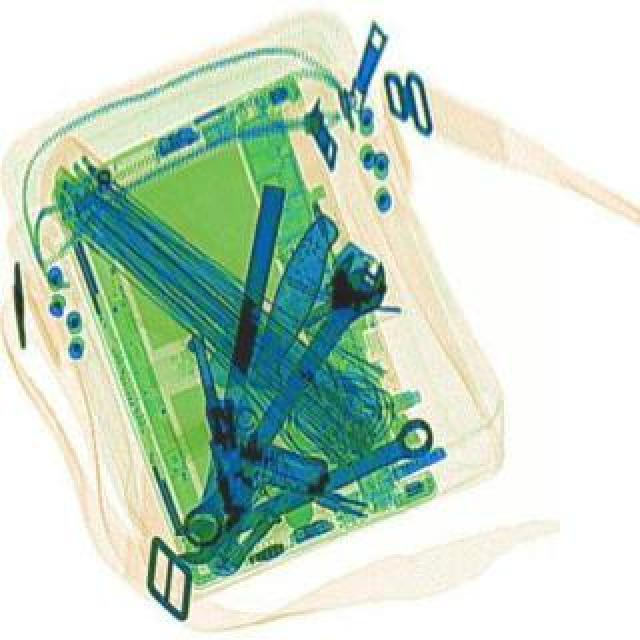gun: (184, 312, 332, 516)
knife: (198, 208, 342, 508), (196, 182, 284, 518)
scissors: (166, 246, 398, 556), (164, 412, 442, 566)
